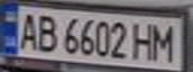0: (93, 18, 112, 58)
2: (109, 18, 130, 61)
6: (60, 15, 81, 56), (78, 16, 96, 57)
A: (12, 9, 42, 51)
B: (33, 11, 60, 53)
H: (130, 19, 157, 61)
M: (148, 20, 181, 63)
